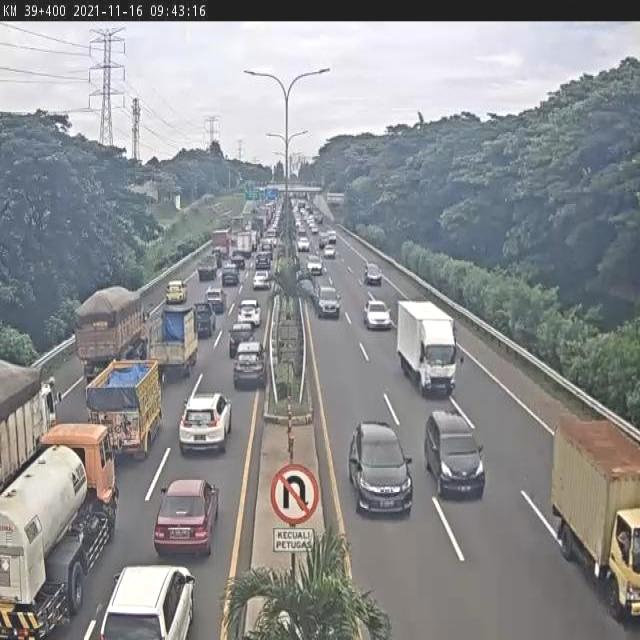Car: (98, 564, 196, 639), (349, 424, 415, 522), (424, 410, 485, 499), (153, 478, 220, 558), (178, 389, 231, 454), (232, 341, 268, 389), (228, 320, 258, 358), (315, 285, 341, 320), (364, 297, 392, 329), (194, 301, 217, 338), (236, 298, 262, 328), (295, 275, 317, 306), (165, 280, 187, 305), (205, 287, 226, 313), (221, 262, 240, 286), (364, 263, 382, 285), (252, 270, 271, 290), (306, 255, 323, 275), (254, 252, 272, 270), (230, 252, 246, 270), (297, 236, 310, 252), (323, 244, 336, 258), (326, 230, 336, 244)
Truck: (0, 424, 120, 640), (551, 416, 640, 616), (85, 356, 161, 457), (0, 364, 59, 483), (396, 302, 461, 396), (76, 288, 144, 372), (147, 308, 197, 372)
